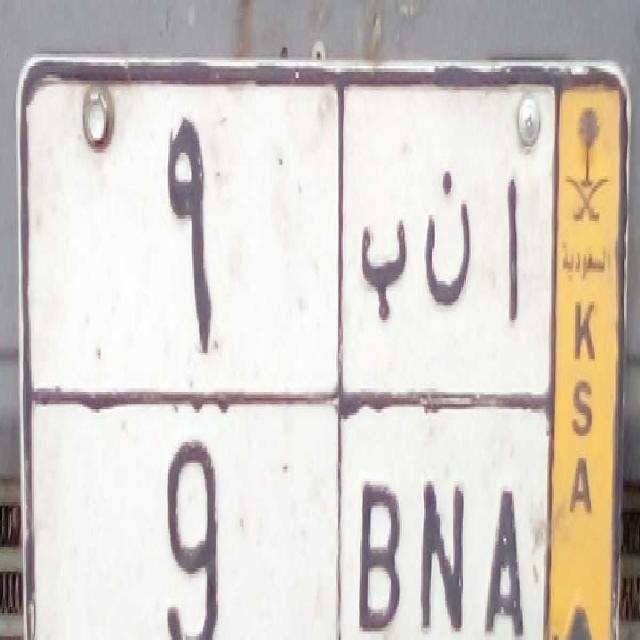license_plate: (27, 393, 549, 640)
